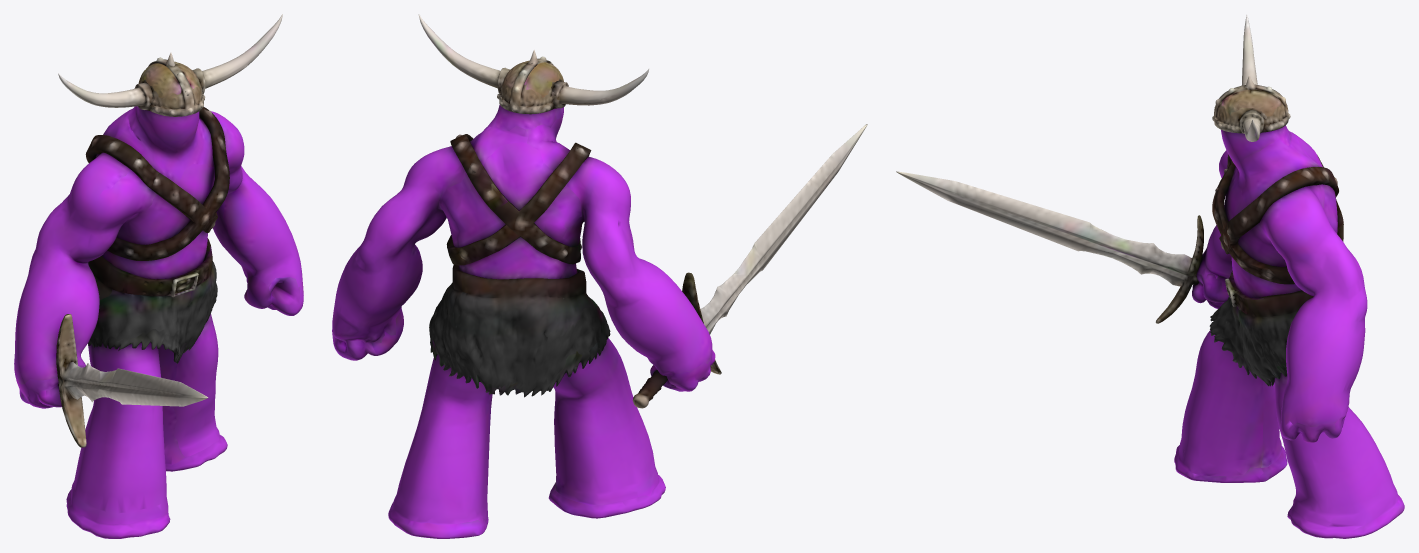
File: MZ4250 - Plasmoid Barbarian (Purple).glb
The picture shows the model from 3 angles, left to right: view 1: azimuth 30°, elevation 25°; view 2: azimuth 150°, elevation 25°; view 3: azimuth 270°, elevation 25°; orthographic projection. The views are drawn at different scales.
Visible parts, largest first — view 1: Plasmoid Barbarian.001; view 2: Plasmoid Barbarian.001; view 3: Plasmoid Barbarian.001.
Part boxes in pixels (<box>): Plasmoid Barbarian.001: <box>14,14,303,538</box>; Plasmoid Barbarian.001: <box>332,14,867,538</box>; Plasmoid Barbarian.001: <box>896,14,1404,538</box>.
Bounding box in the file's own units: 28.53 × 38.49 × 40.78.
Materials: 1 (1 with a texture image).
